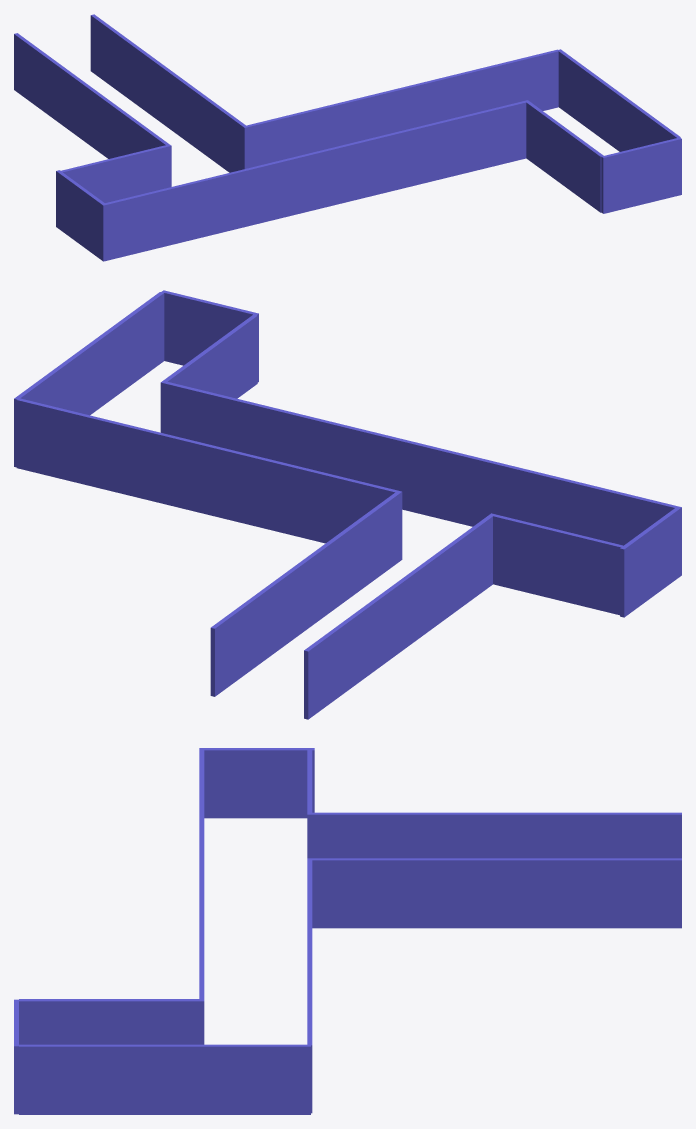
File: maze.dae
3 views of the same model, one above another, from view 1: azimuth 30°, elevation 25°; view 2: azimuth 150°, elevation 25°; view 3: azimuth 270°, elevation 25° (orthographic). The views are drawn at different scales.
Parts seen in each view (by area): view 1: maze; view 2: maze; view 3: maze.
Boxes of the visible parts, left/top/right/bottom form: maze: left=14, top=14, right=681, bottom=261; maze: left=14, top=290, right=681, bottom=719; maze: left=14, top=748, right=681, bottom=1114.
Size of the model in its own units: 5.64 by 5.33 by 0.6.
